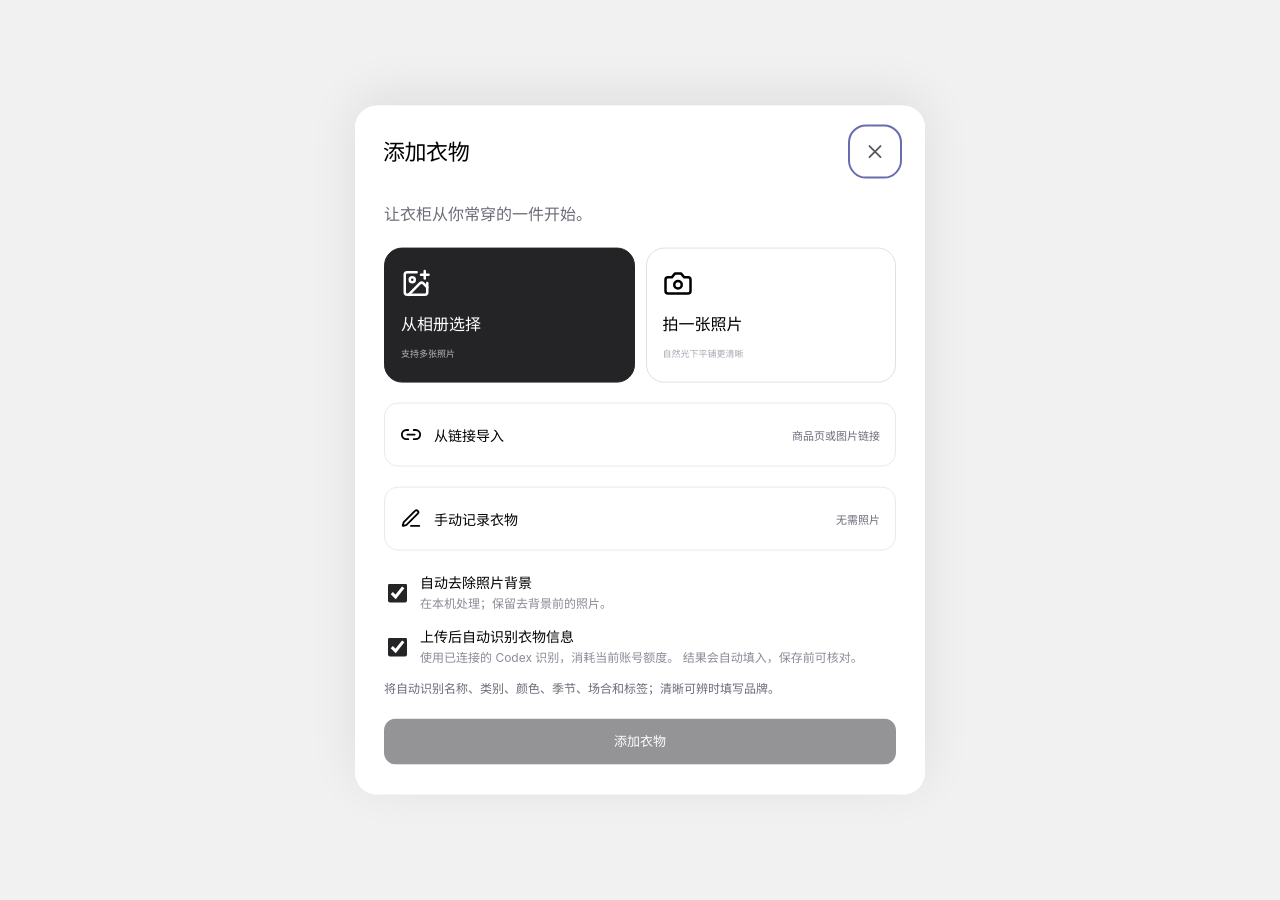
Test: opens link import from the add sheet and can return to photo upload
This screenshot has width=1280, height=900.
Click the button "手动记录衣物 无需照片": (476, 519) [384, 487, 896, 551]
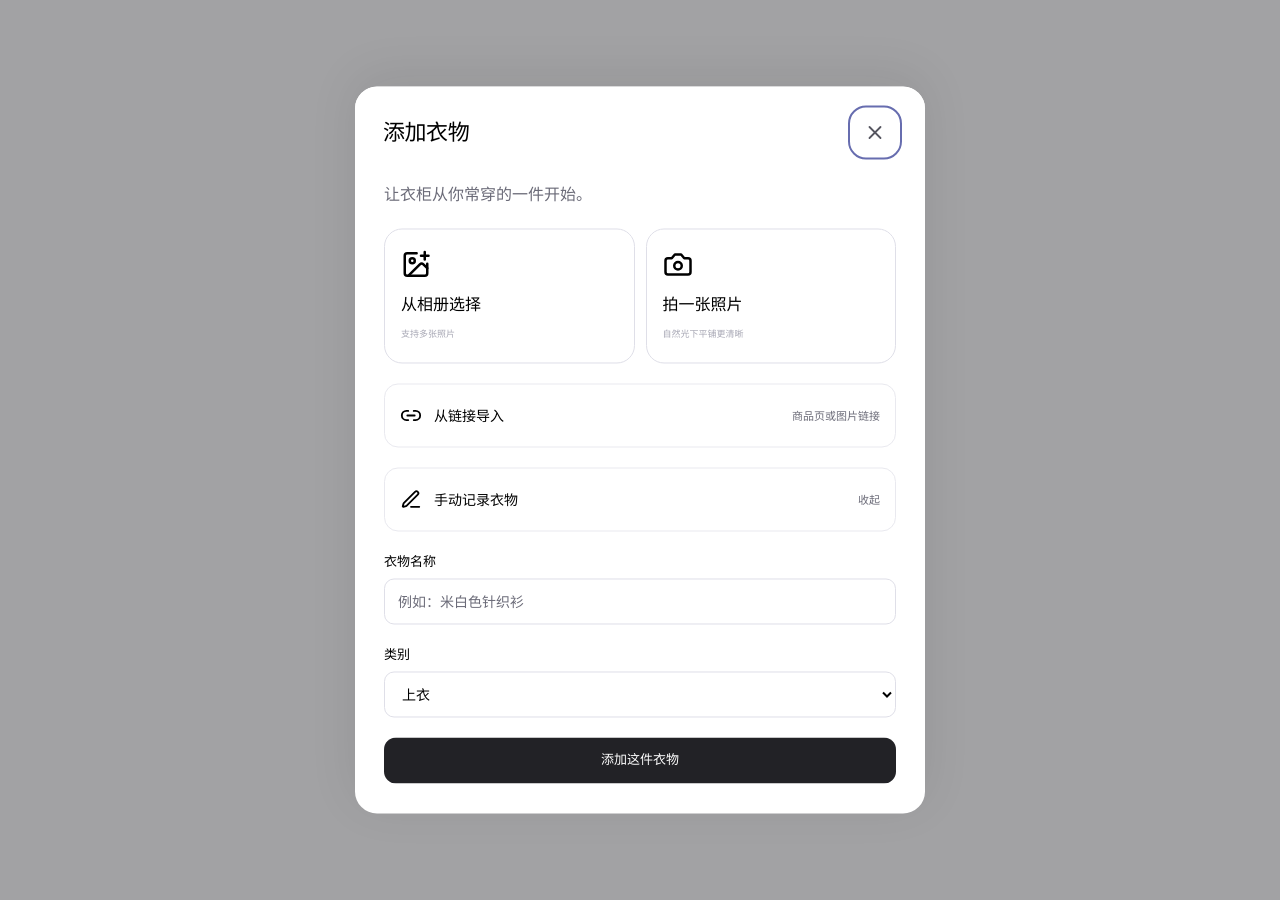
Click the button "从链接导入 商品页或图片链接": (469, 416) [384, 384, 896, 448]
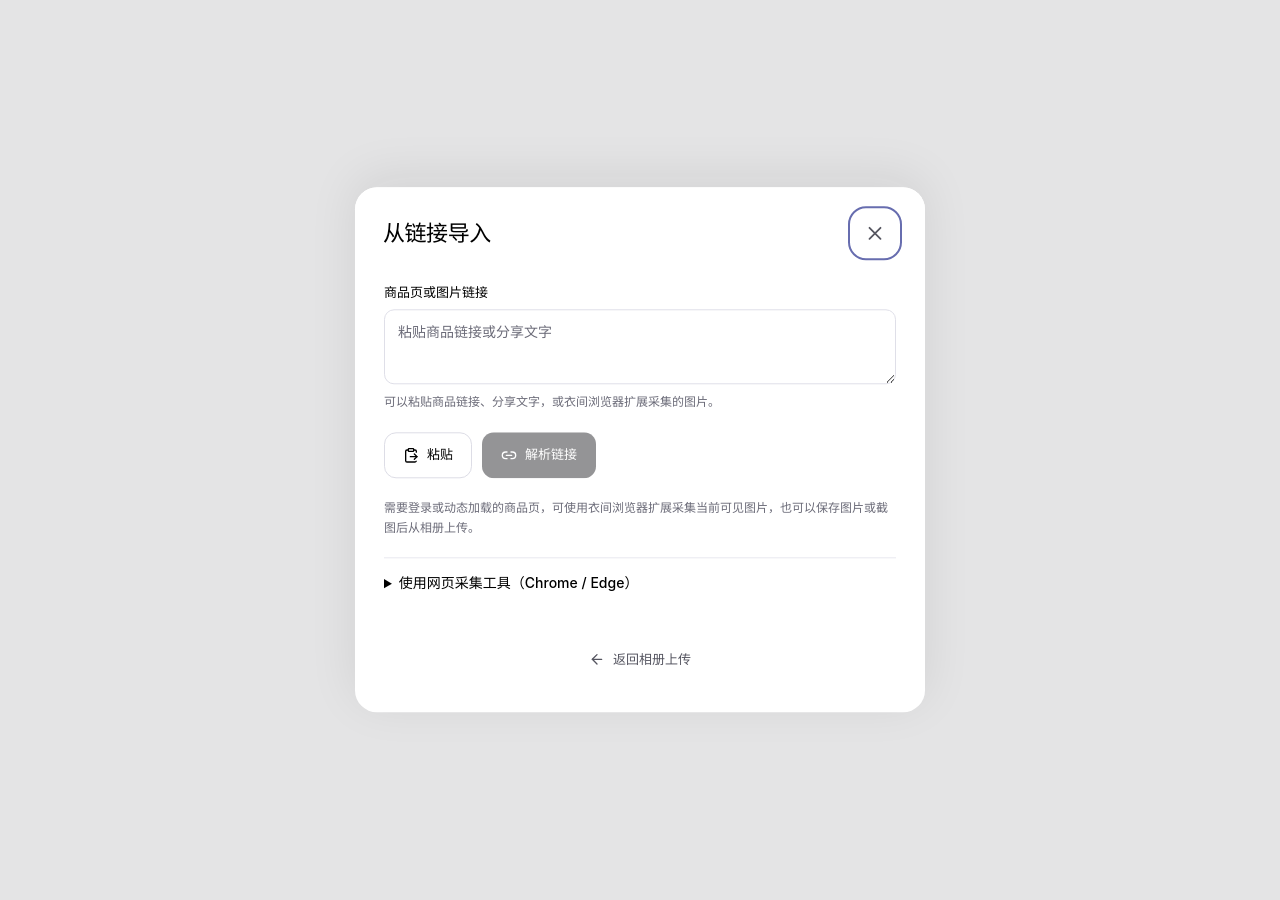
Expected: the dialog "从链接导入" is shown, [355, 187, 925, 713]
Click the button "返回相册上传": (640, 660) [384, 637, 896, 683]
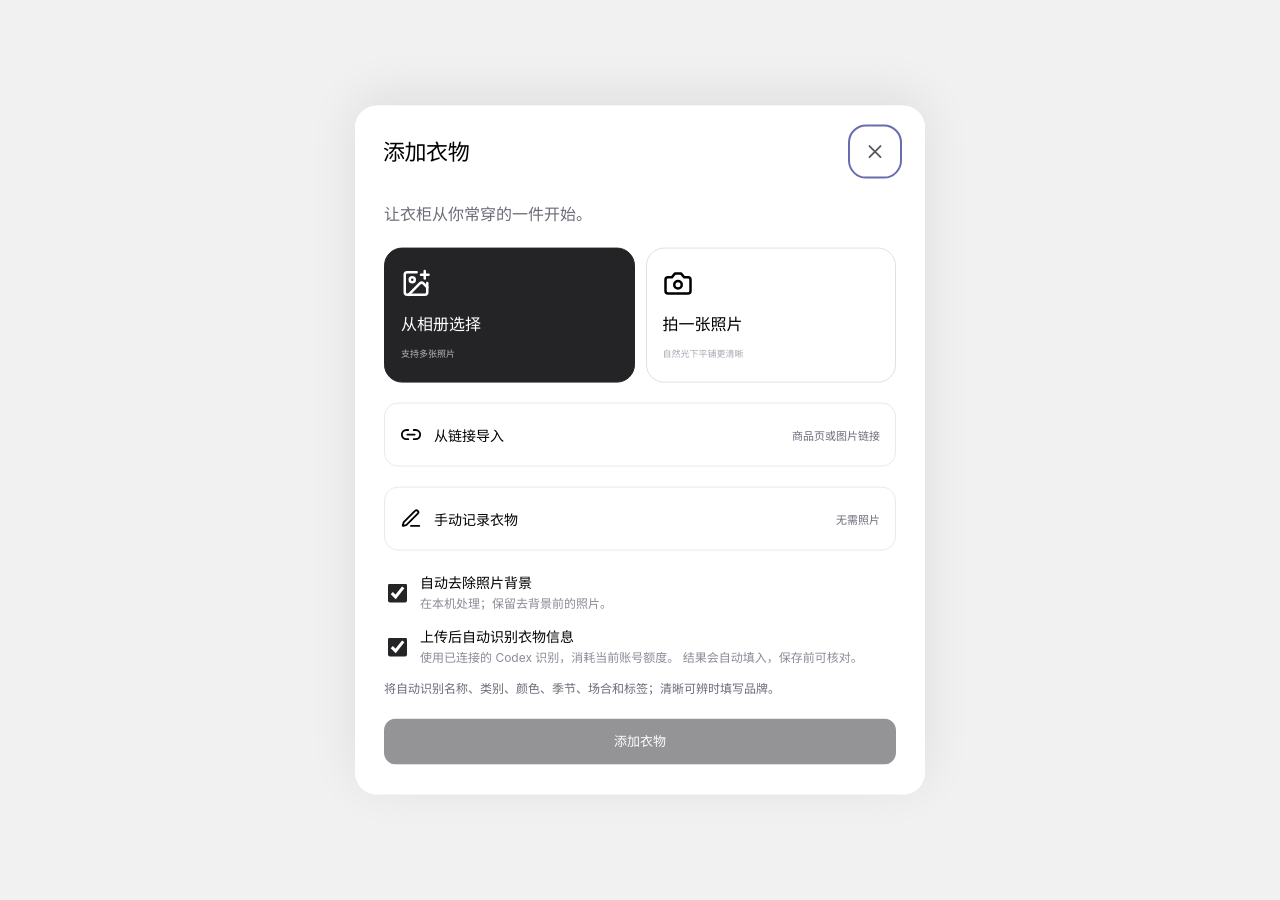
Expected: the label labelled "衣物名称" is not shown
Expected: the dialog "添加衣物" is shown, [355, 106, 925, 794]
Expected: the button "从相册选择 支持多张照片" is shown, [384, 248, 634, 383]
